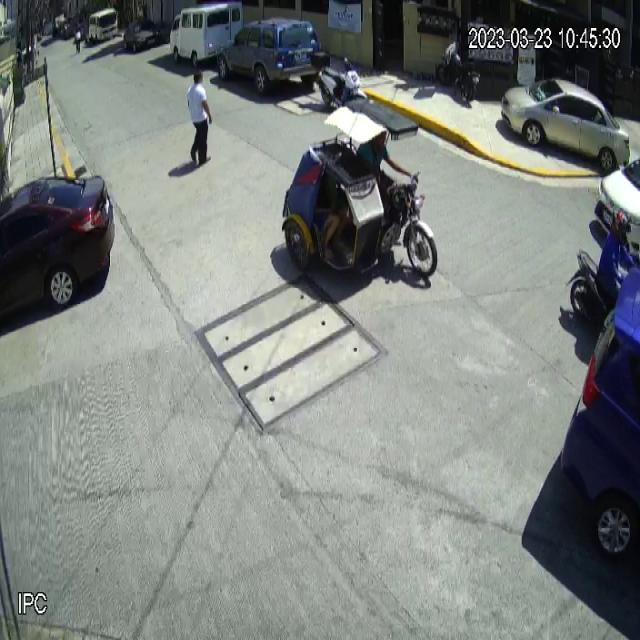Car: (500, 76, 631, 173), (215, 16, 321, 96)
Tricycle: (280, 96, 438, 277)
Van: (168, 1, 244, 69)
